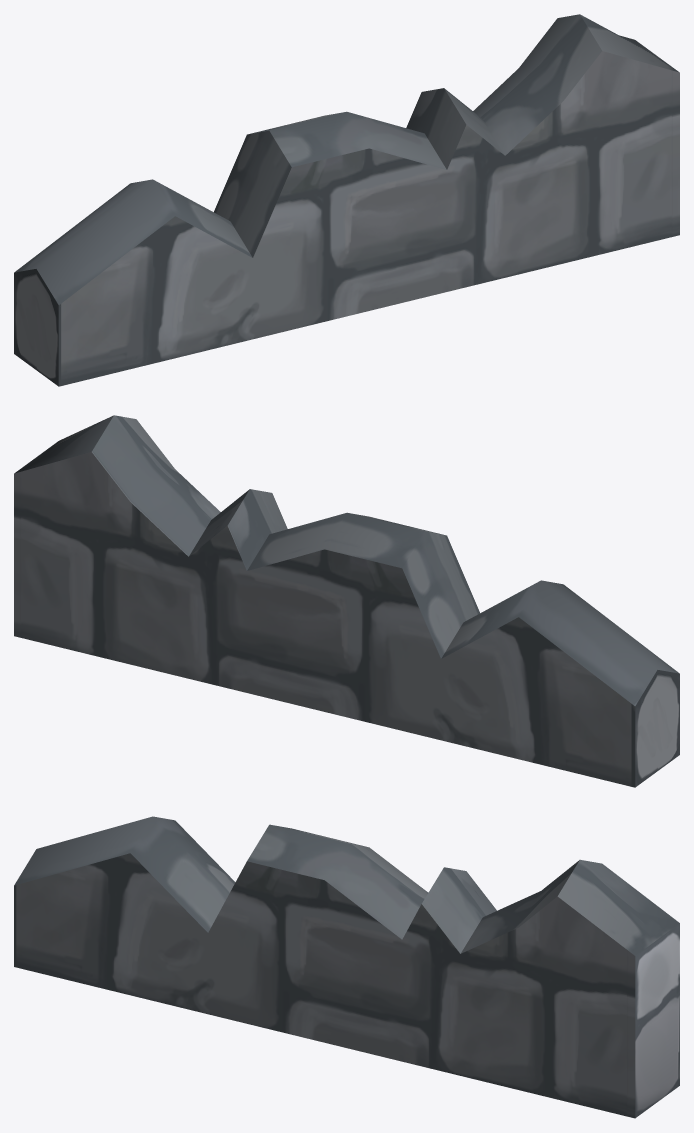
The model's file is WallBrokenEdge.001.fbx.
3 views of the same model, one above another, from view 1: azimuth 30°, elevation 25°; view 2: azimuth 150°, elevation 25°; view 3: azimuth 330°, elevation 25° (orthographic).
Parts seen in each view (by area): view 1: WallBrokenEdge.001; view 2: WallBrokenEdge.001; view 3: WallBrokenEdge.001.
Part boxes in pixels (<box>): WallBrokenEdge.001: <box>14,14,679,386</box>; WallBrokenEdge.001: <box>14,415,679,787</box>; WallBrokenEdge.001: <box>14,816,679,1118</box>.
Bounding box in the file's own units: 400 × 138 × 50.
